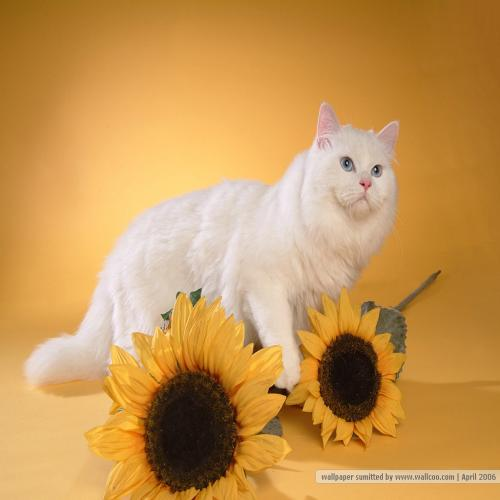persian: (300, 95, 407, 259)
